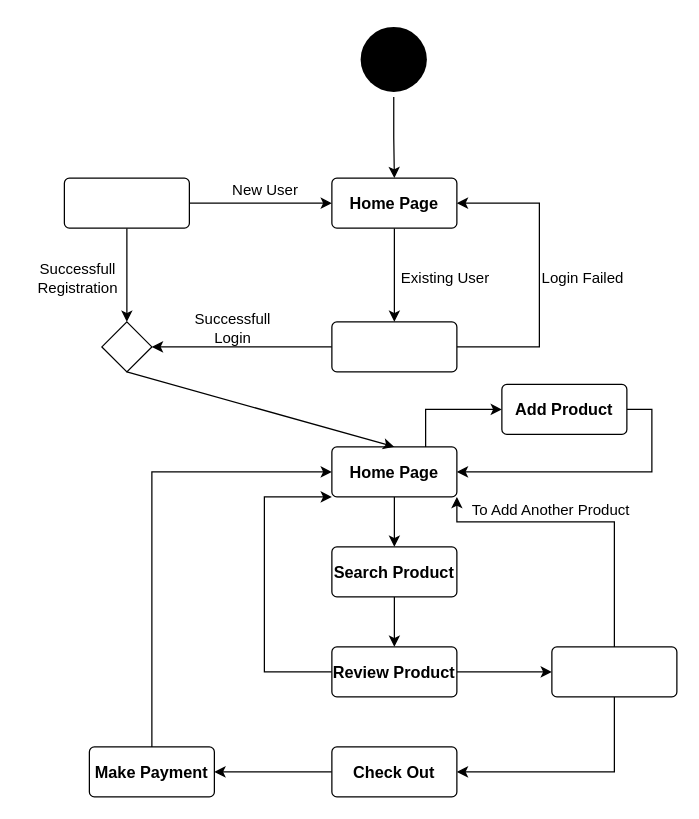
Some shapes in this 699 by 819 pixel diagram are drawn without their labels. Here are the shapes that lost their labels. From the top down, the centre of each, then its label:
pixel 126 202: Register
pixel 394 346: Login
pixel 614 671: Add To Cart
